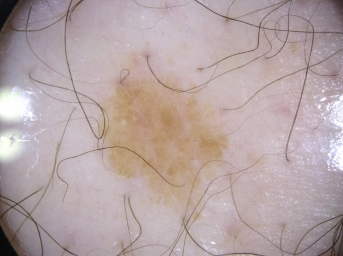seborrheic keratosis: (81, 63, 247, 212)
